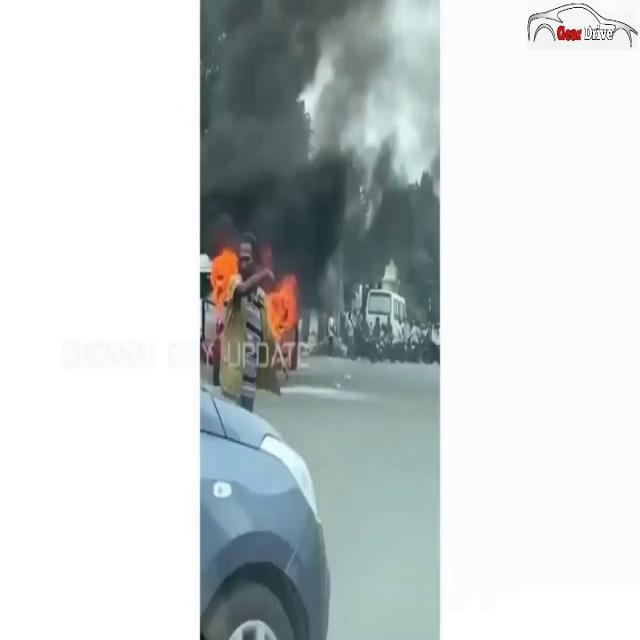Fire: (260, 271, 302, 348), (206, 244, 243, 306)
Smoke: (200, 1, 438, 290)
